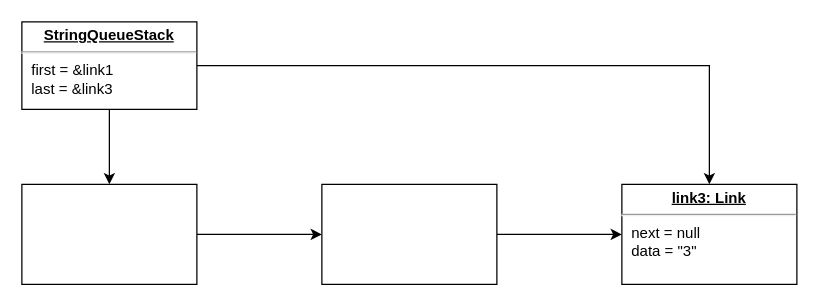
The diagram is 819 pixels wide and 306 high, and some of its shapes have lost their labels. The shapes that lost their labels are listed below. From the top down, each one's centre as x and y in pixels, then its label:
point 109,233: link1: Link next = &link2 data = "1"
point 409,233: link2: Link next = &link3 data = "2"
